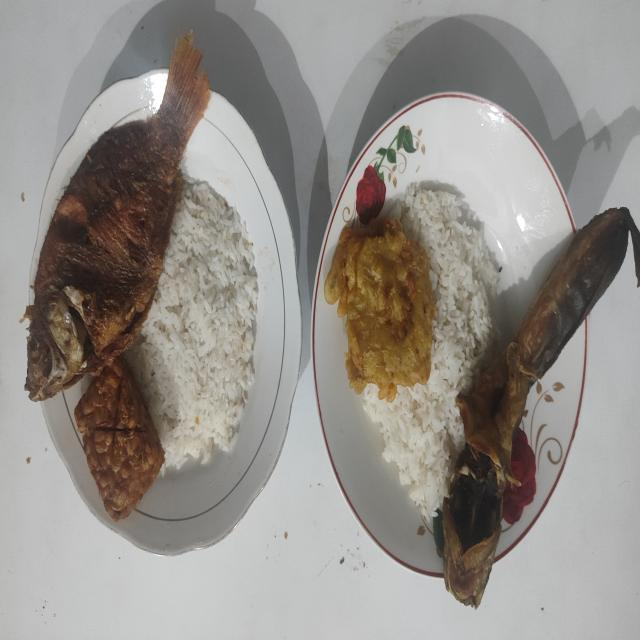ikan_mujair: (26, 34, 210, 400)
nasi_putih: (362, 183, 499, 520), (131, 176, 258, 468)
tempe_goreng: (74, 359, 165, 521)
